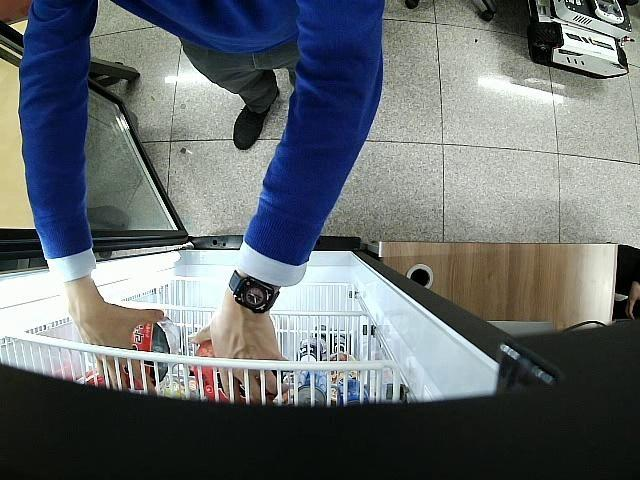01_ShinRamen_L: (188, 340, 275, 404), (121, 316, 181, 391)
